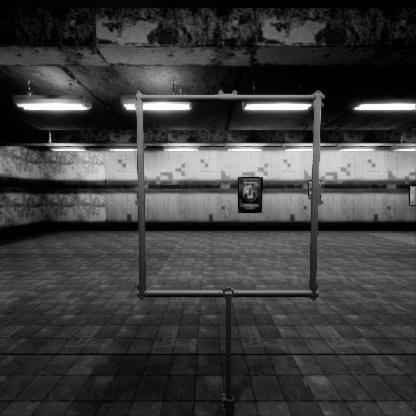gate: (137, 116, 341, 323)
